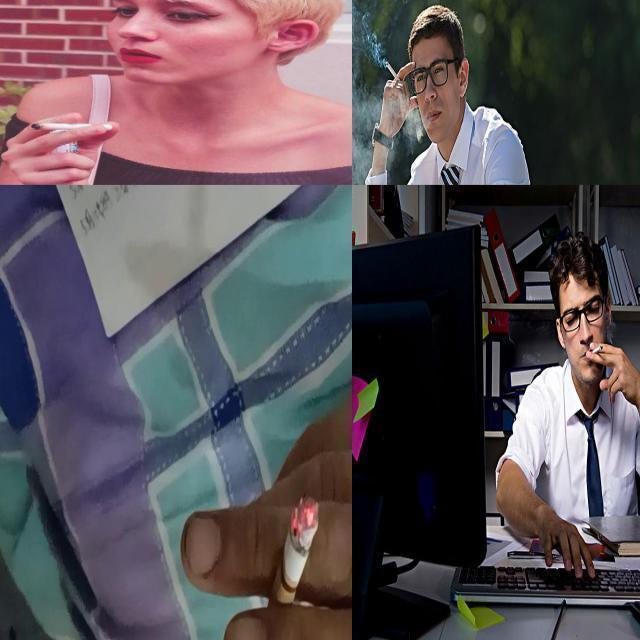rokok: (262, 494, 321, 630), (30, 122, 114, 132), (385, 61, 403, 85), (588, 344, 604, 356)
